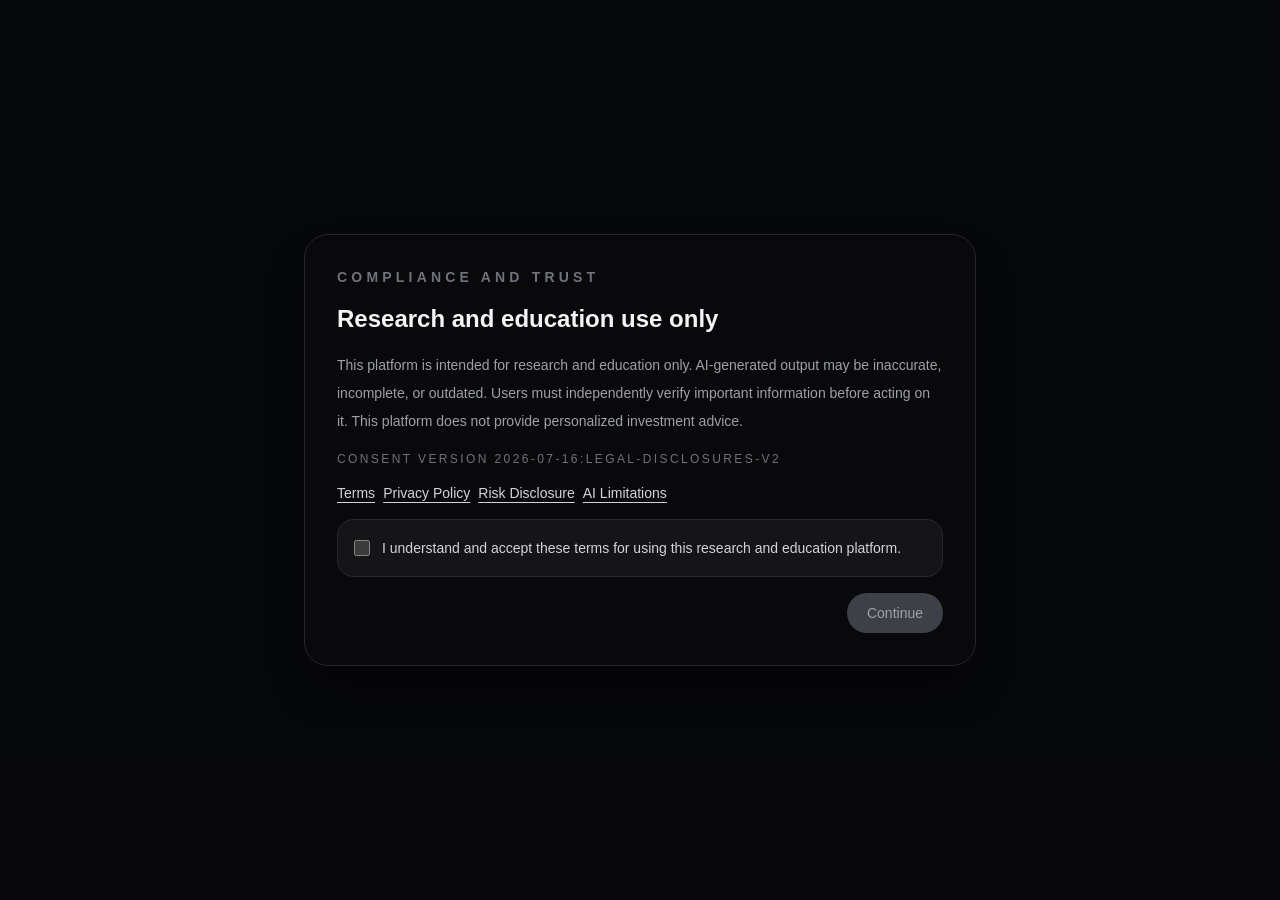
Test: Consent modal › keeps content locked and shows a recoverable error when authenticated persistence fails
What coordinates should you click on to do the following:
click the checkbox
I would click on:
 (362, 548)
Its box is x1=354 y1=540 x2=370 y2=556.
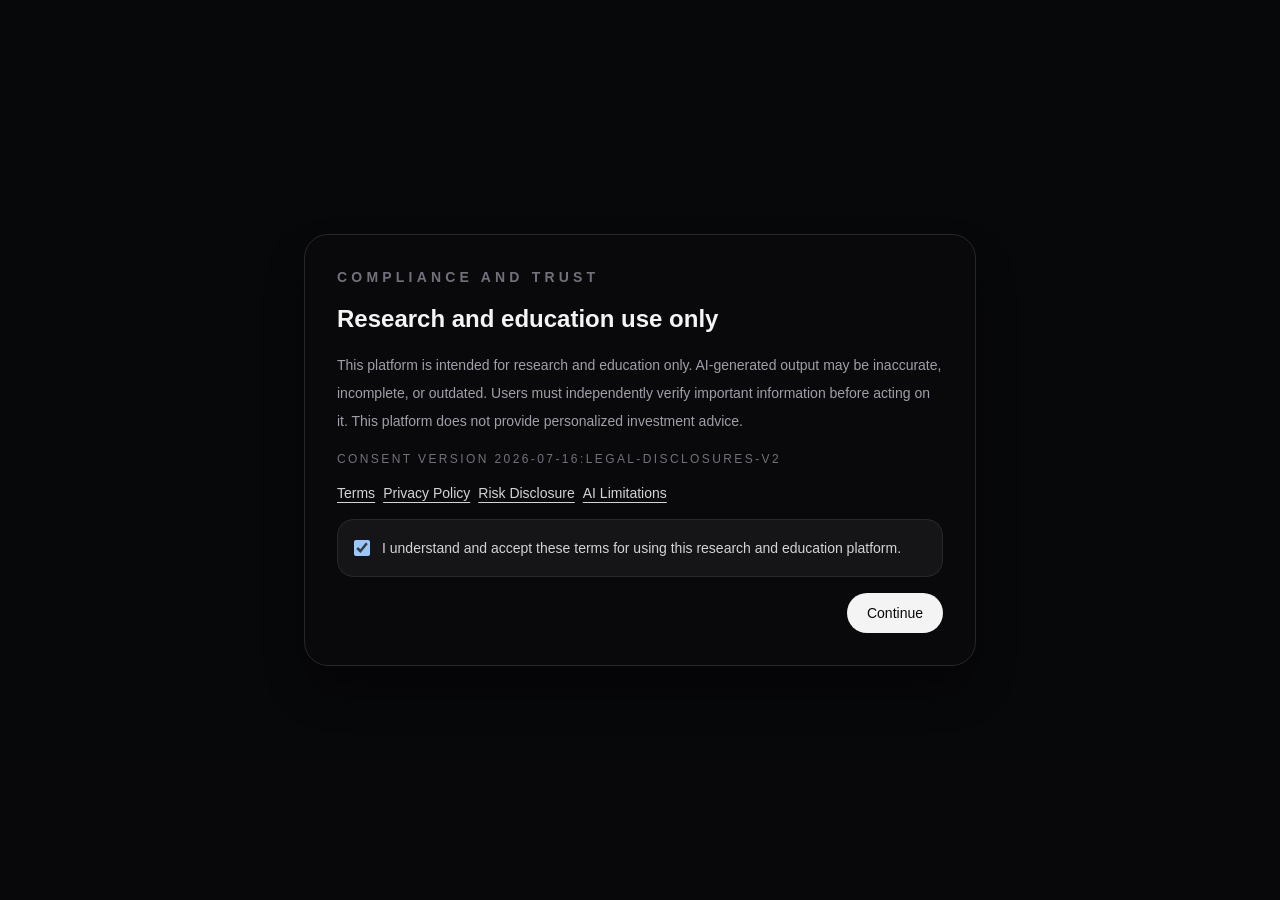
What coordinates should you click on to do the following:
click the button "Continue"
I would click on:
 (895, 613)
Its box is x1=847 y1=593 x2=943 y2=633.
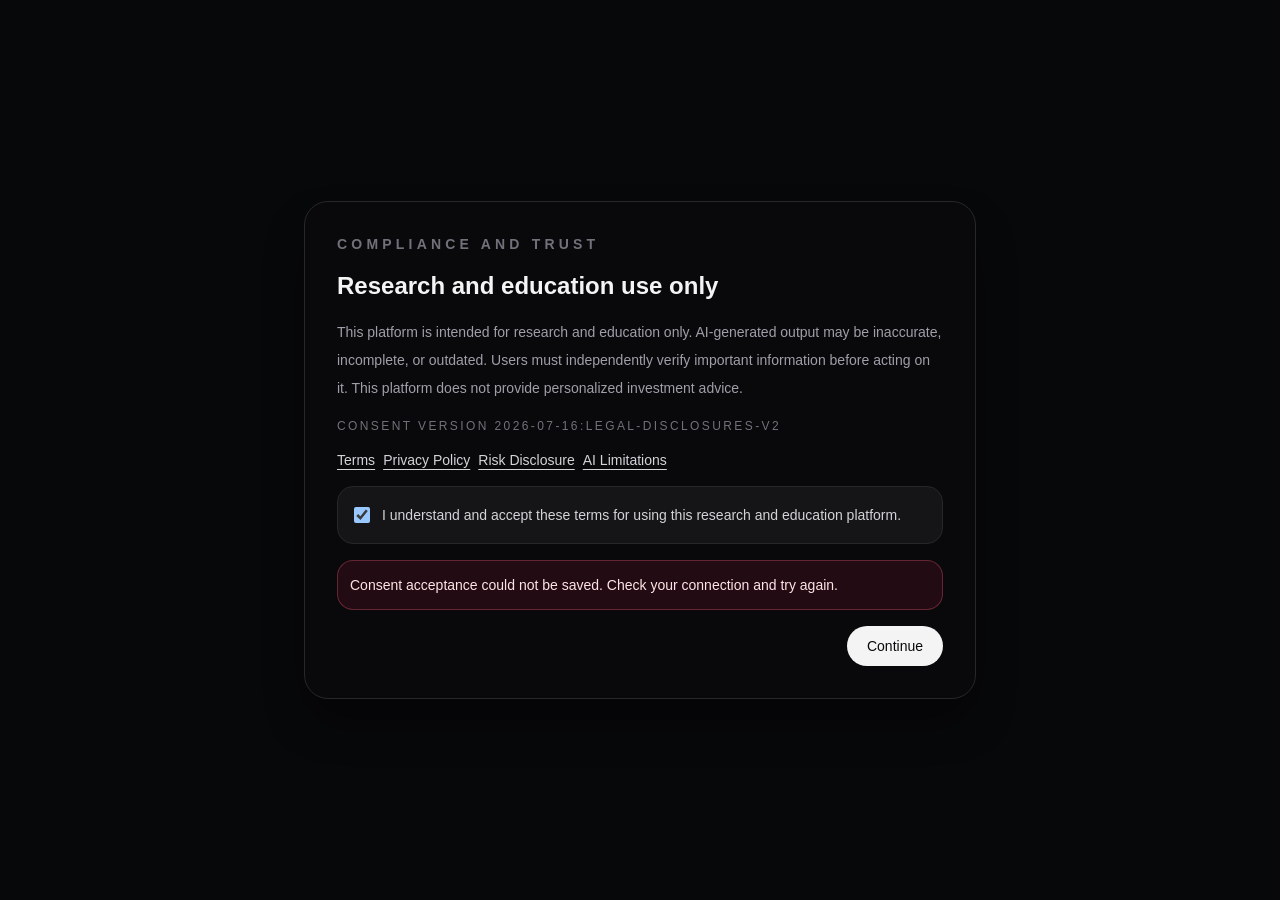
Expected: the text "Consent acceptance could not be saved" is shown, x1=350 y1=577 x2=838 y2=593
